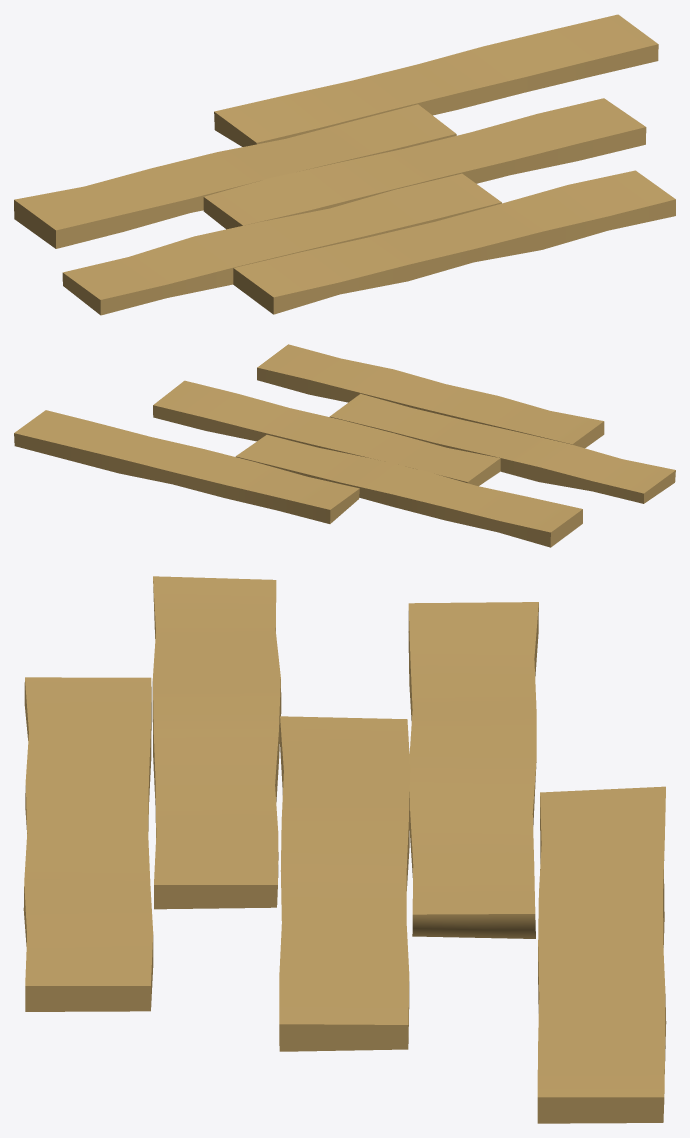
Rendered from floorWoodboardsRough.gltf.
3 views of the same model, one above another, from view 1: azimuth 30°, elevation 25°; view 2: azimuth 150°, elevation 25°; view 3: azimuth 270°, elevation 25° (orthographic). The views are drawn at different scales.
Parts seen in each view (by area): view 1: Cube.010; view 2: Cube.010; view 3: Cube.010.
Part boxes in pixels (x1,y1,x2,y2): Cube.010: [14, 14, 675, 315]; Cube.010: [14, 344, 675, 547]; Cube.010: [23, 576, 666, 1123].
Size of the model in its own units: 19.26 by 0.5262 by 10.03.
